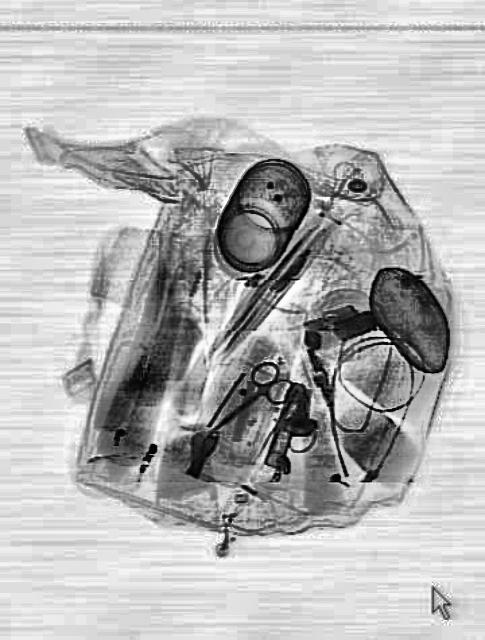Scissors: (192, 349, 296, 455)
